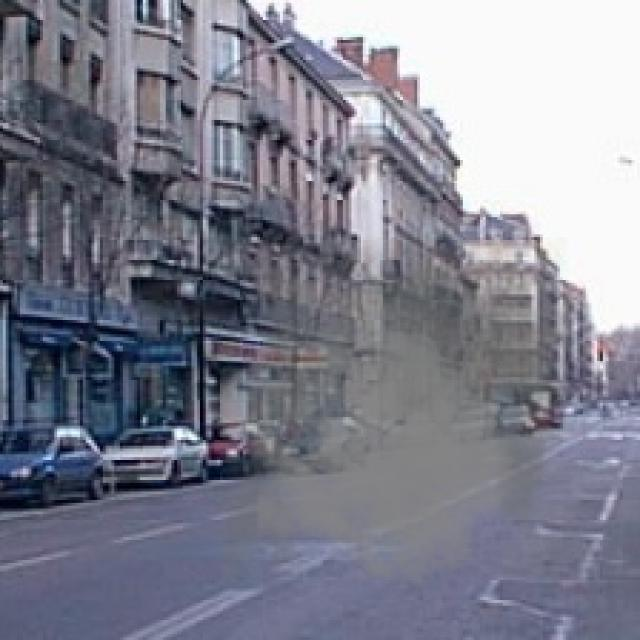Smoke: (220, 237, 569, 592)
